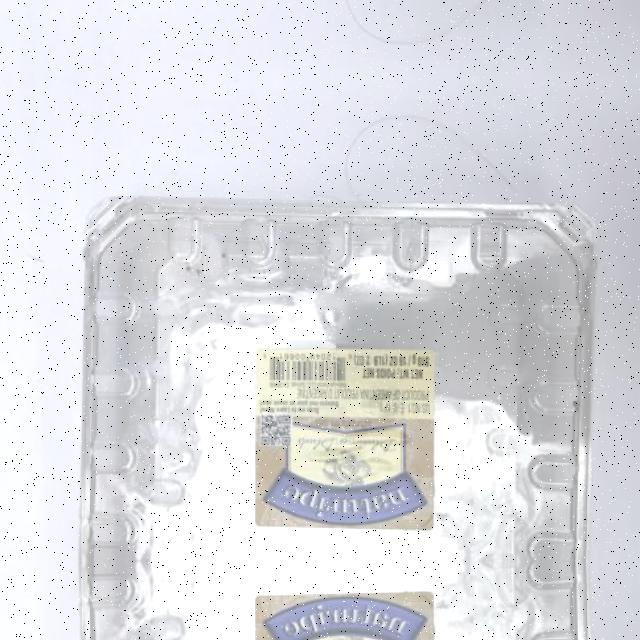Plastic: (72, 181, 598, 561), (72, 560, 597, 640)
